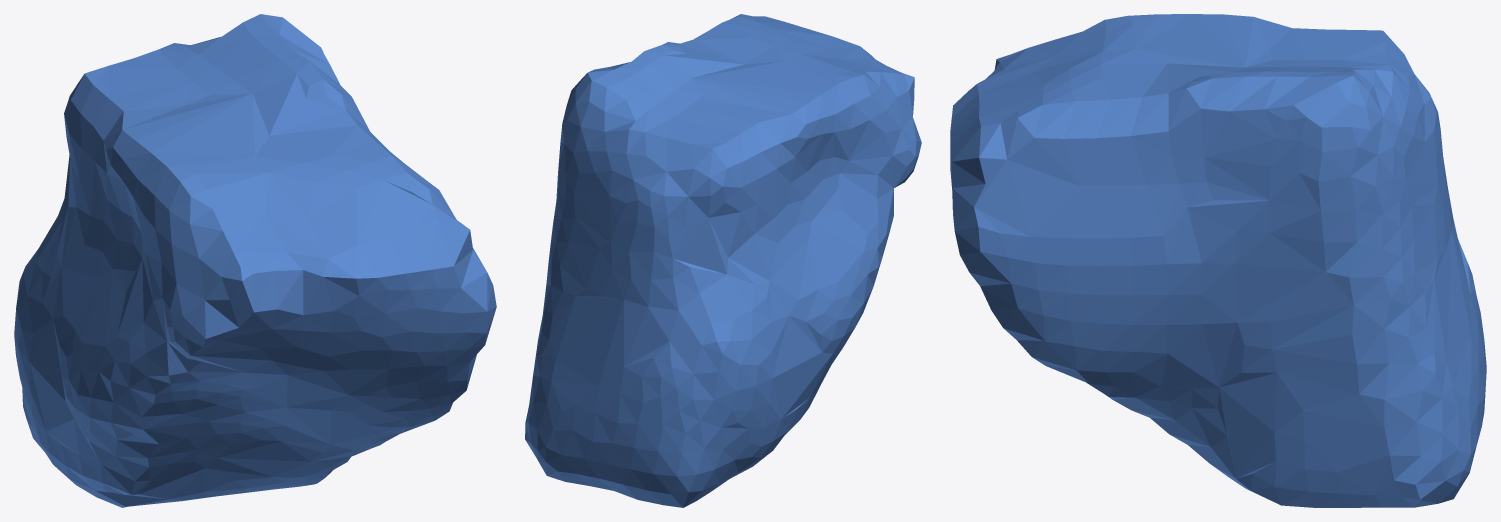
The model's file is Model_49_RH__Area_14_of_cortex__caudal_part_(A14C).obj.
The picture shows the model from 3 angles, left to right: view 1: azimuth 30°, elevation 25°; view 2: azimuth 150°, elevation 25°; view 3: azimuth 270°, elevation 25°; orthographic projection. The views are drawn at different scales.
Size of the model in its own units: 0.9931 by 1.4 by 1.6.
